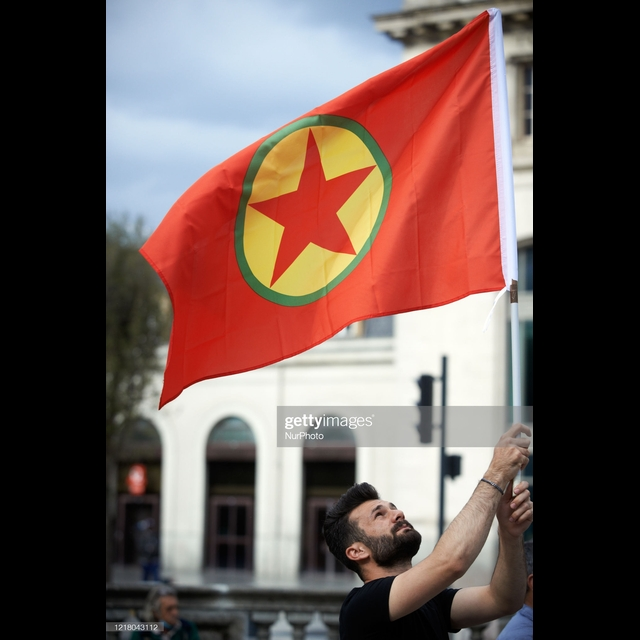PKK: (244, 114, 392, 305)
